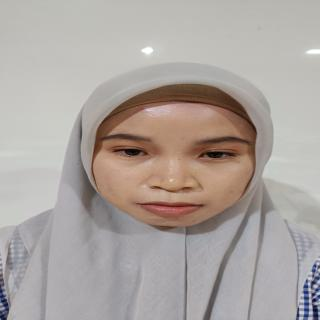Netral: (84, 87, 266, 235)
